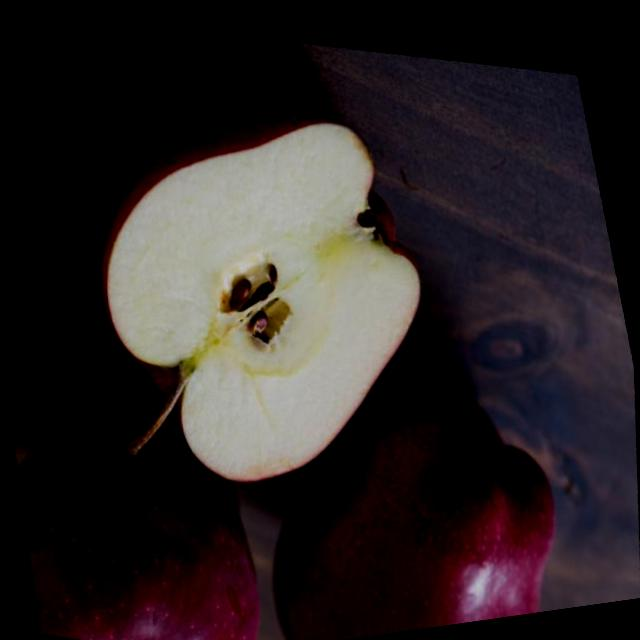Apple: (75, 104, 440, 498), (248, 374, 572, 640), (8, 373, 269, 640)
